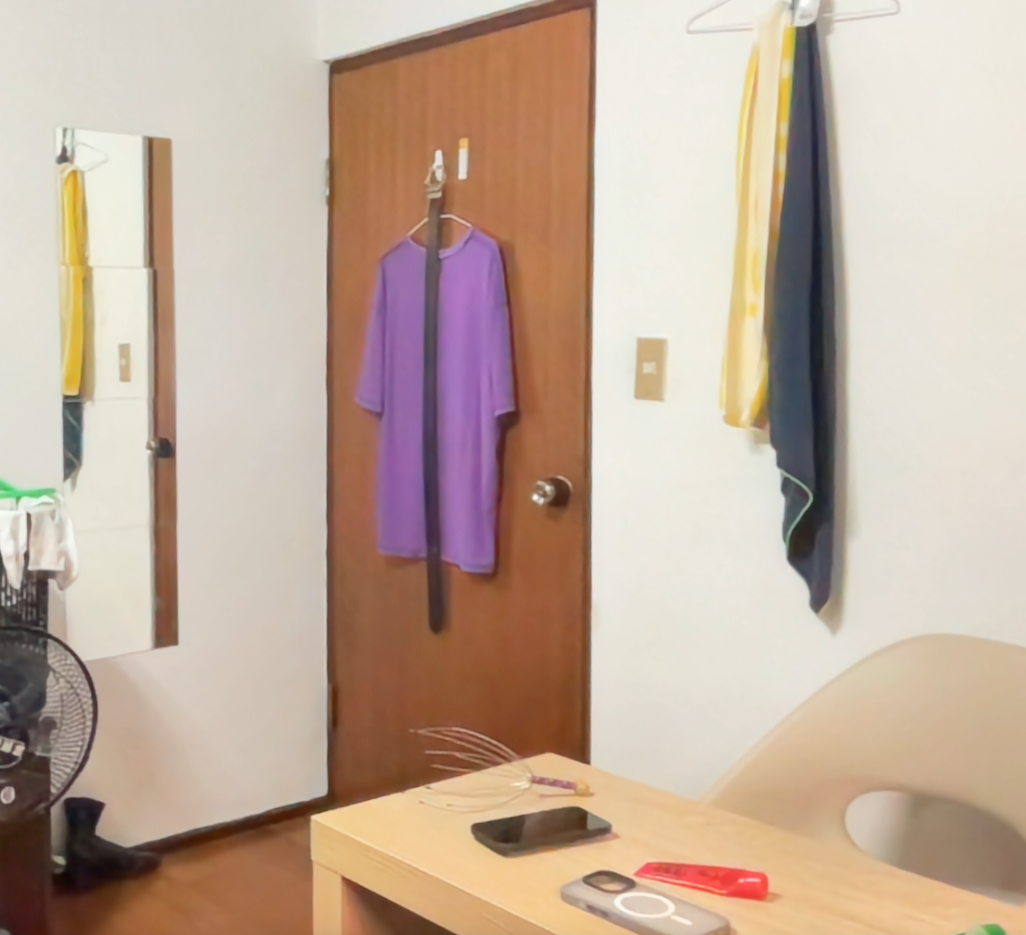Door Close: (289, 45, 638, 827)
